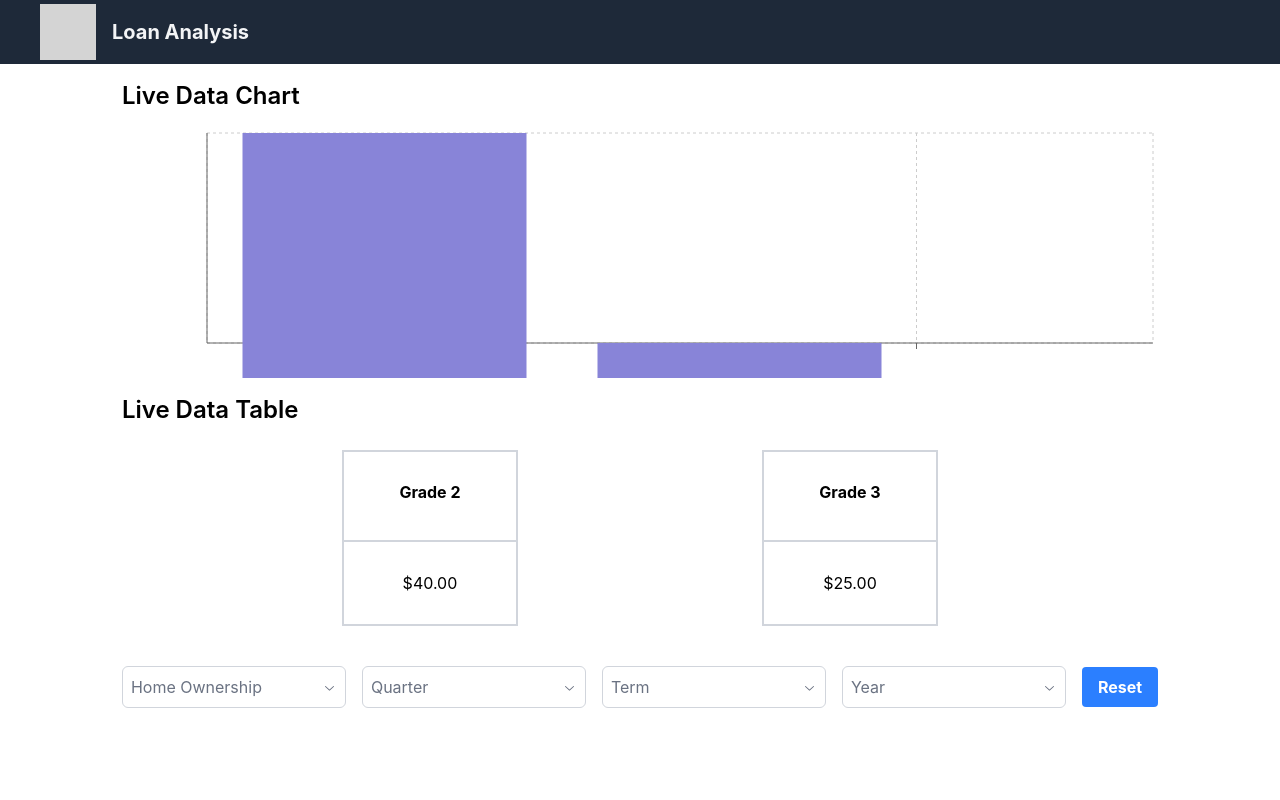
Test: <App /> › shows loader then renders table with aggregated balances
Click the text "Home Ownership".
click(196, 687)  # box [131,675,262,699]
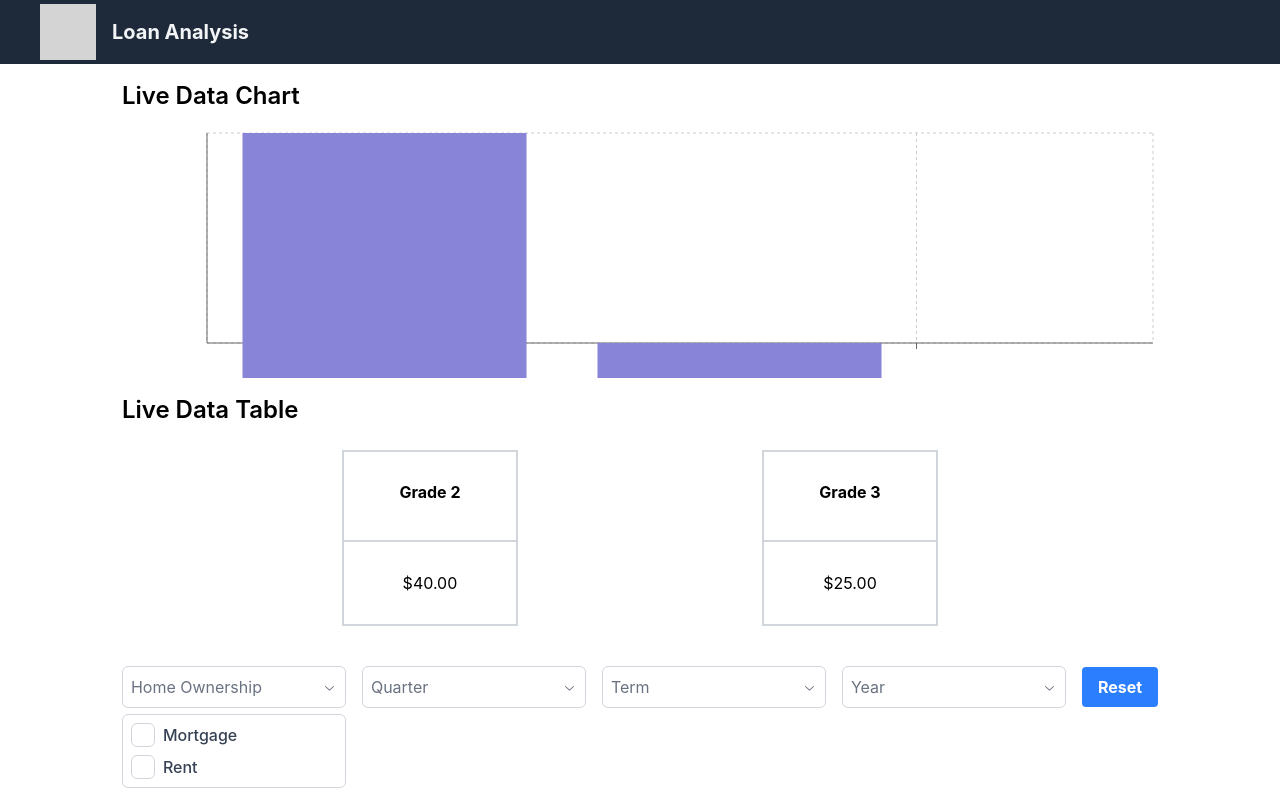
Click the text "mortgage".
click(200, 735)  # box [163,723,237,747]
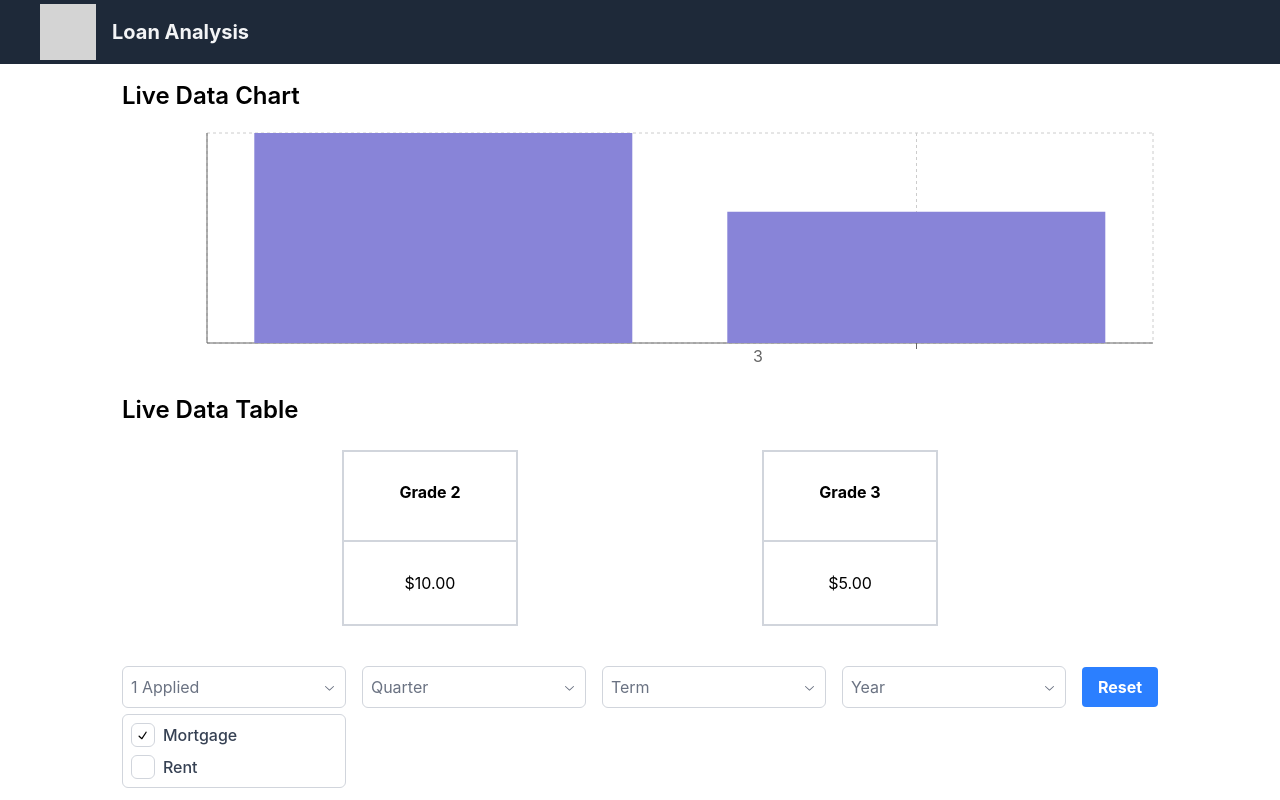
expect the text "$10.00" is shown: met, box [342,540,518,626]
expect the text "$5.00" is shown: met, box [762,540,938,626]
Click the text "rent".
click(180, 767)  # box [163,755,198,779]
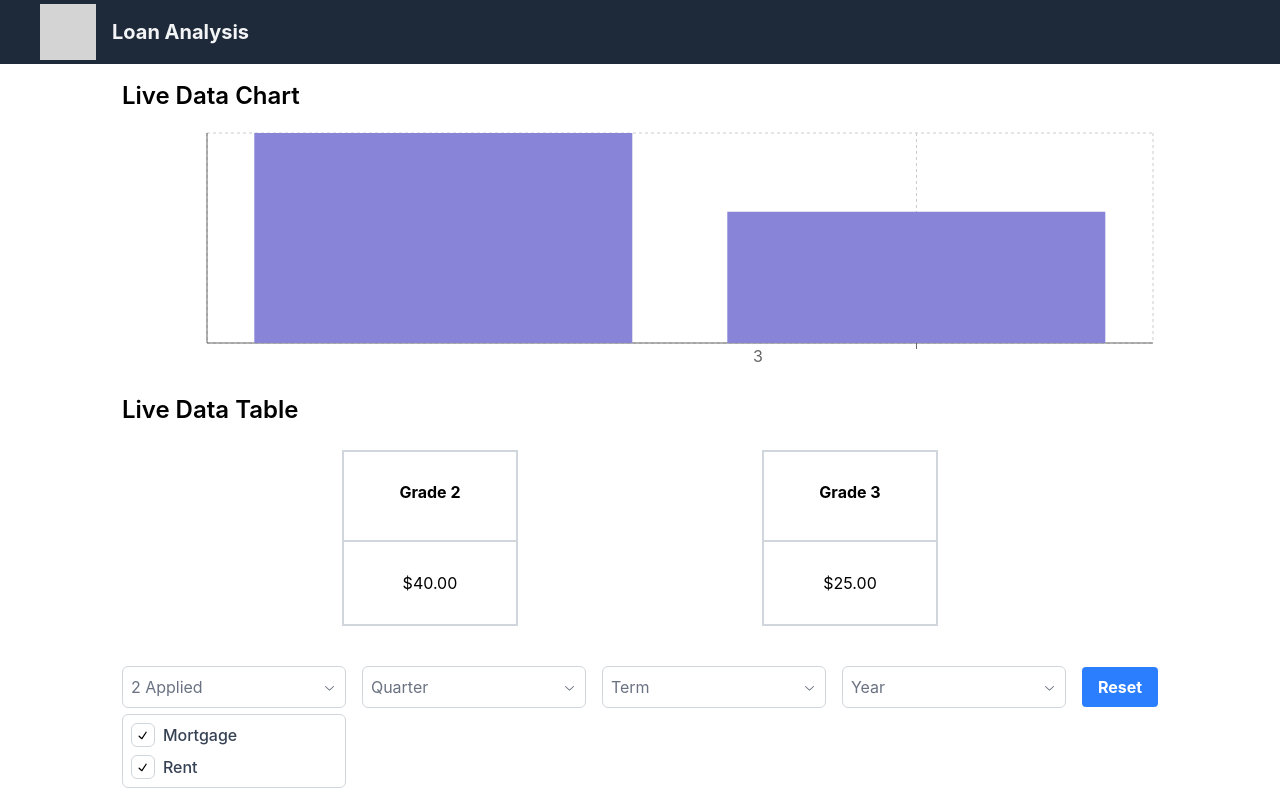
expect the text "$40.00" is shown: met, box [342,540,518,626]
expect the text "$25.00" is shown: met, box [762,540,938,626]
